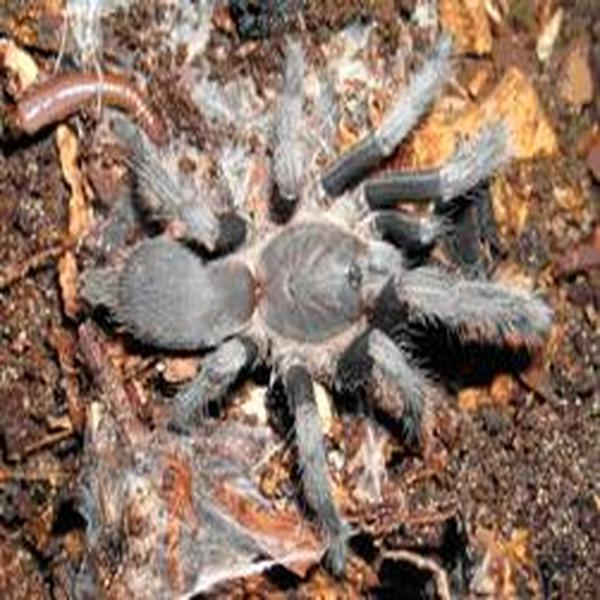Tarantula Spider: (101, 71, 548, 528)
